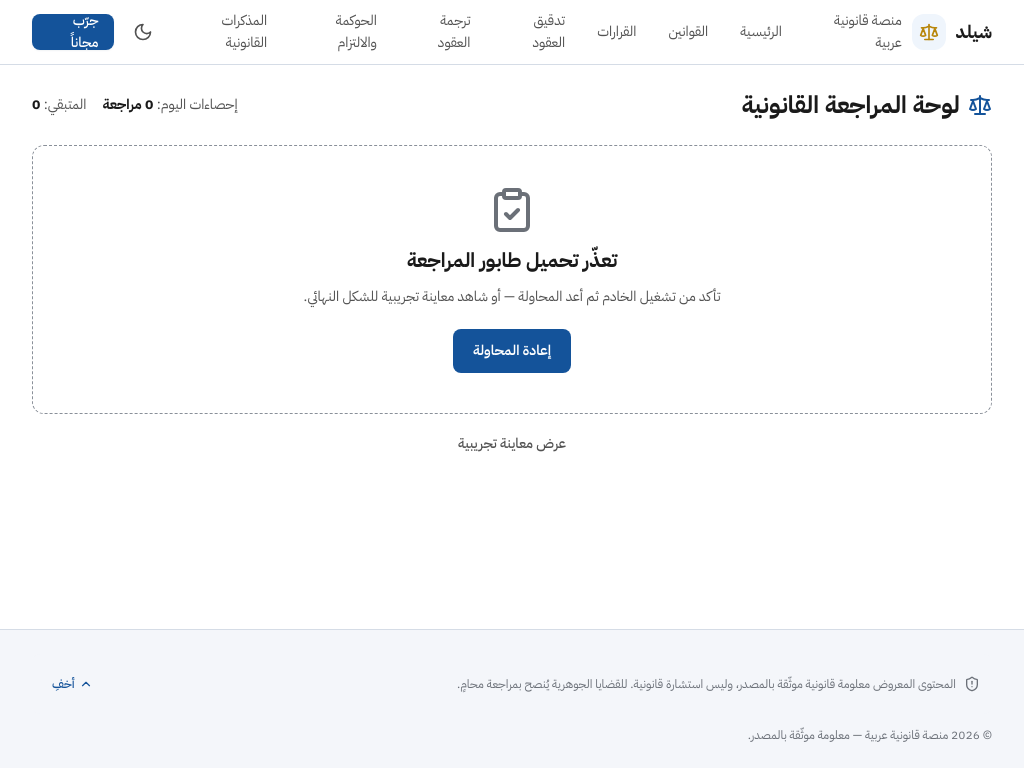
Test case: ReviewPage › يعرض معاينة تجريبية صريحة عند فشل الاتصال (بانر تحذيري + عناصر تجريبية)
Click the button "عرض معاينة تجريبية" at {"x": 512, "y": 444}, box left=442, top=426, right=582, bottom=462
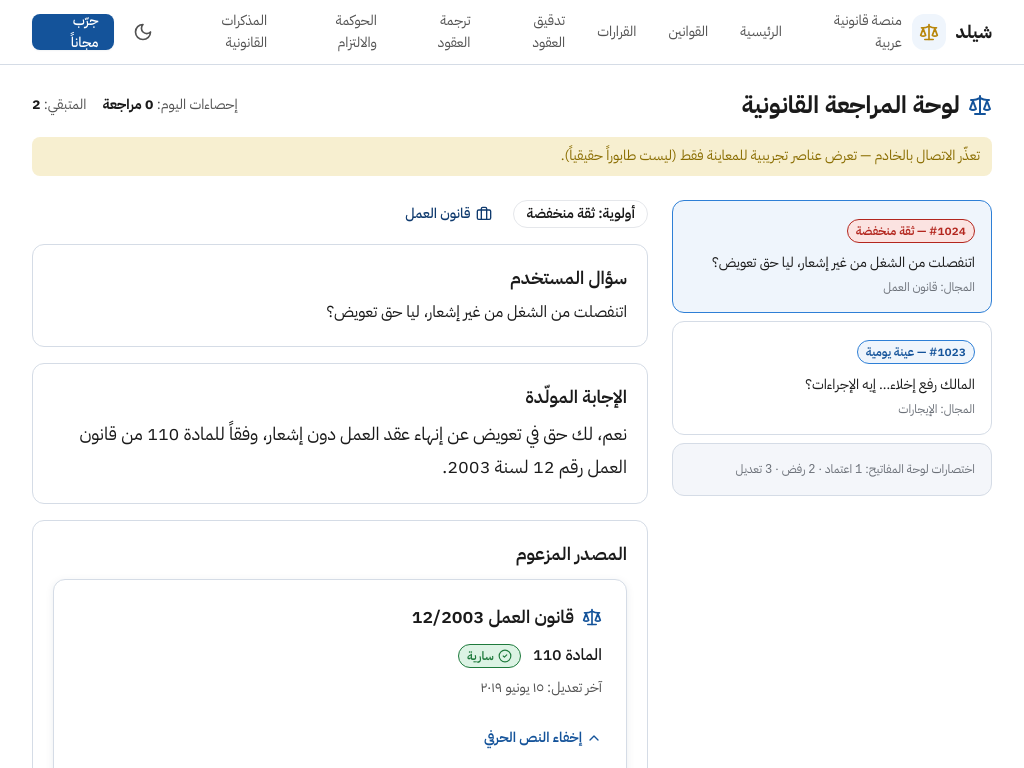
Now the 1st text "اتنفصلت من الشغل من غير إشعار، ليا حق تعويض؟" is shown, box left=689, top=252, right=975, bottom=274
Now the text "تعرض عناصر تجريبية للمعاينة فقط" is shown, box left=561, top=145, right=980, bottom=166
